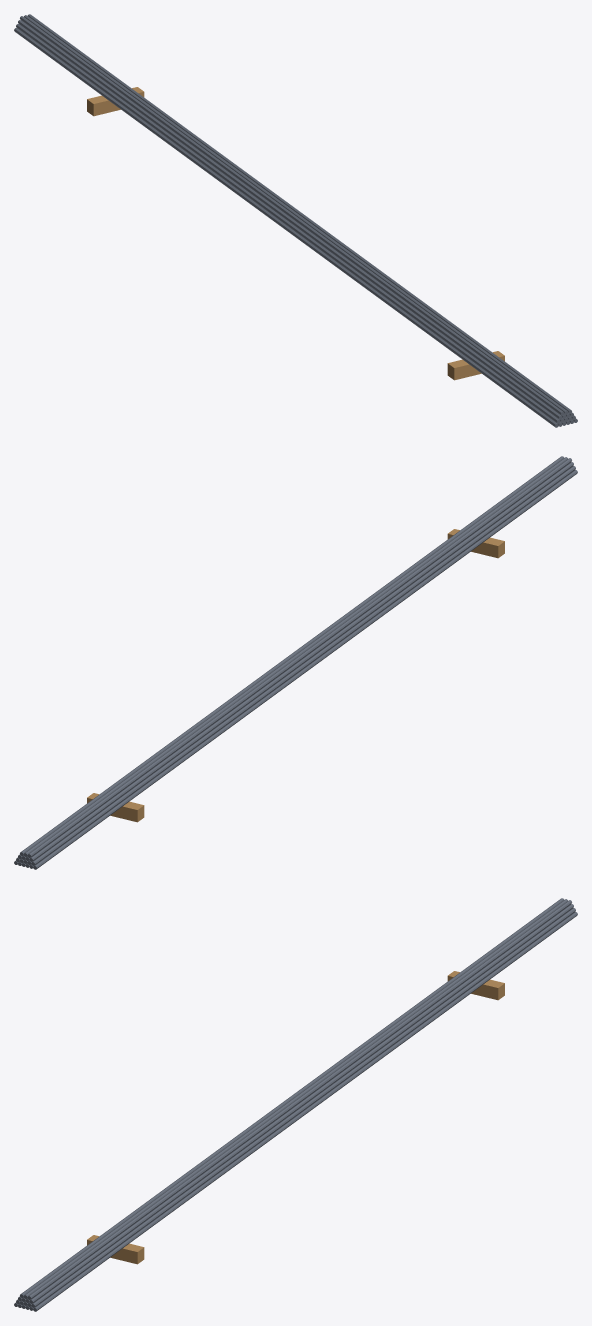
The model's file is plant.store.rebar.glb.
The picture shows the model from 3 angles, top to bottom: view 1: azimuth 30°, elevation 25°; view 2: azimuth 150°, elevation 25°; view 3: azimuth 330°, elevation 25°; orthographic projection.
Parts seen in each view (by area): view 1: main__steel_painted, main__softwood; view 2: main__steel_painted, main__softwood; view 3: main__steel_painted, main__softwood.
Part boxes in pixels (x1,y1,x2,y2): main__steel_painted: [14, 14, 577, 427]; main__softwood: [87, 87, 504, 380]; main__steel_painted: [14, 456, 577, 869]; main__softwood: [87, 529, 504, 822]; main__steel_painted: [14, 898, 577, 1311]; main__softwood: [87, 971, 504, 1264].
Bounding box in the file's own units: 0.3248 × 0.1631 × 6.
